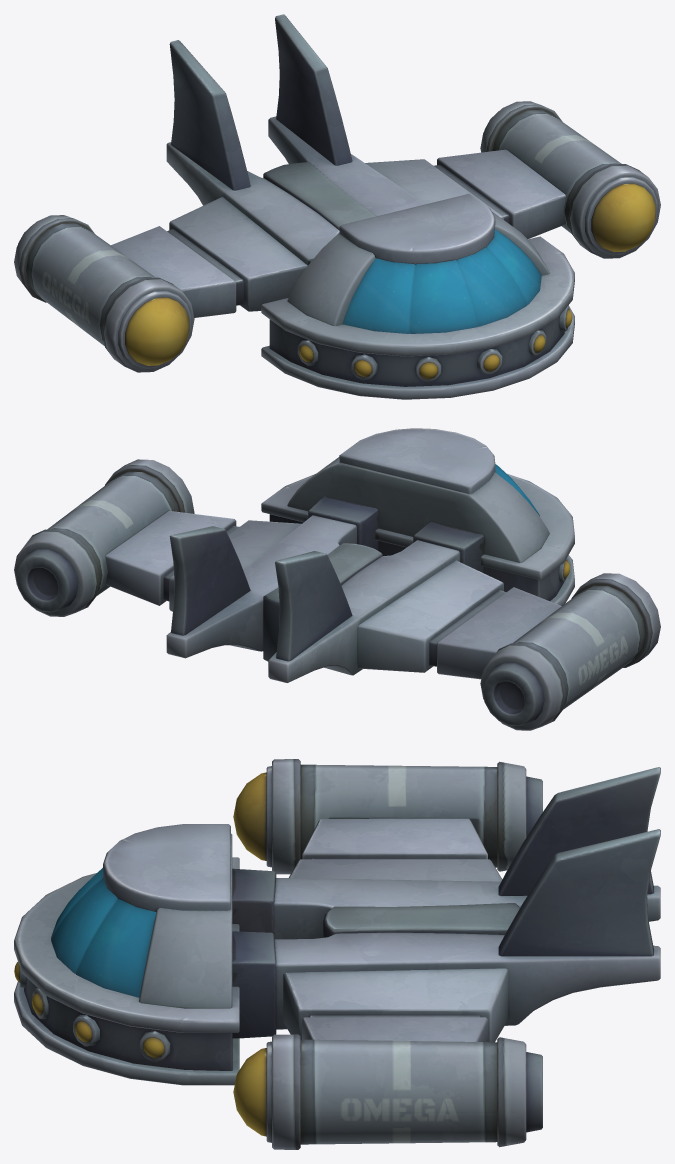
The model's file is Spaceship_Omega.fbx.
The picture shows the model from 3 angles, top to bottom: view 1: azimuth 30°, elevation 25°; view 2: azimuth 150°, elevation 25°; view 3: azimuth 270°, elevation 25°; orthographic projection. The views are drawn at different scales.
Visible parts, largest first — view 1: Spaceship_Omega; view 2: Spaceship_Omega; view 3: Spaceship_Omega.
Part boxes in pixels (<box>): Spaceship_Omega: <box>14,14,660,399</box>; Spaceship_Omega: <box>14,428,660,730</box>; Spaceship_Omega: <box>14,759,660,1149</box>.
Size of the model in its own units: 1381 by 411 by 1165.
